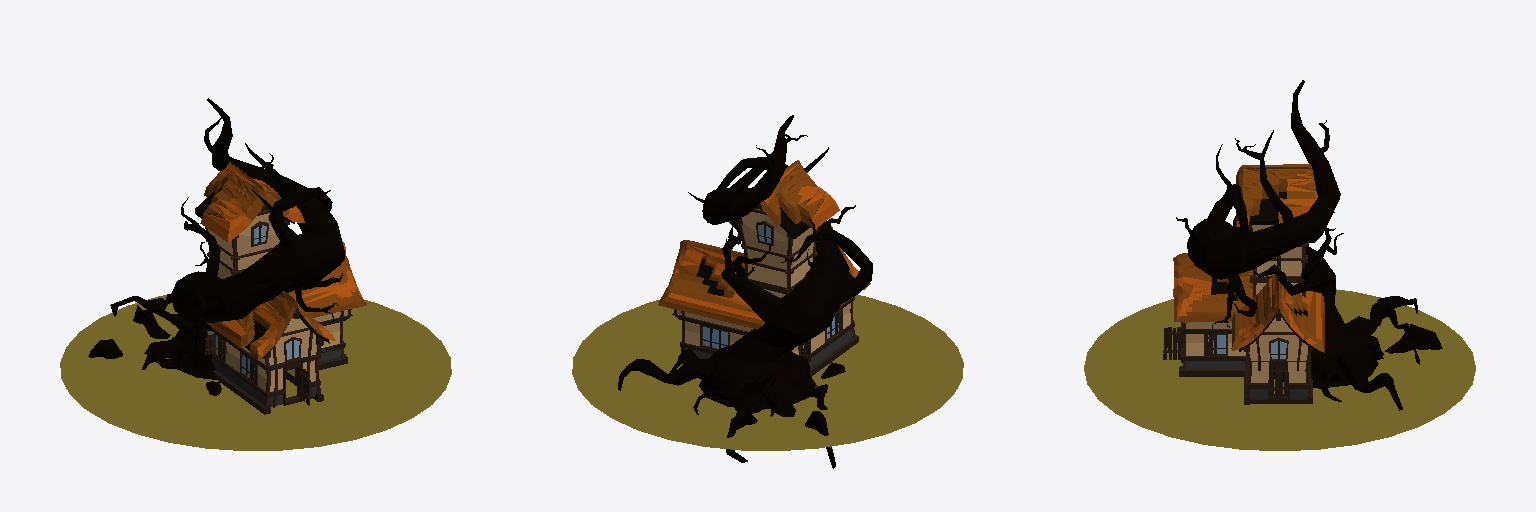
The model's file is house.obj.
The picture shows the model from 3 angles: view 1: azimuth 30°, elevation 25°; view 2: azimuth 150°, elevation 25°; view 3: azimuth 270°, elevation 25°; orthographic projection.
Visible parts, largest first — view 1: Cube; view 2: Cube; view 3: Cube.
Boxes of the visible parts, <box> form: Cube: <box>60,98,451,450</box>; Cube: <box>572,115,963,468</box>; Cube: <box>1084,80,1475,450</box>.
Size of the model in its own units: 37.5 by 33.34 by 37.5.